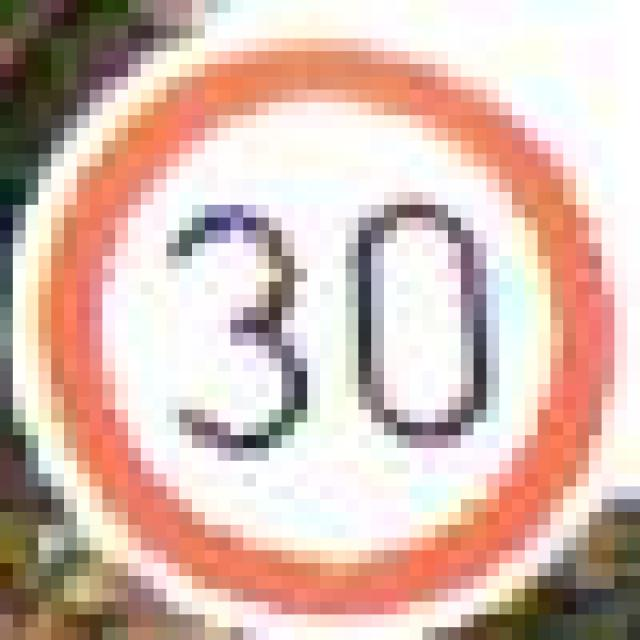SPEED_LIMIT_30: (0, 0, 602, 627)
